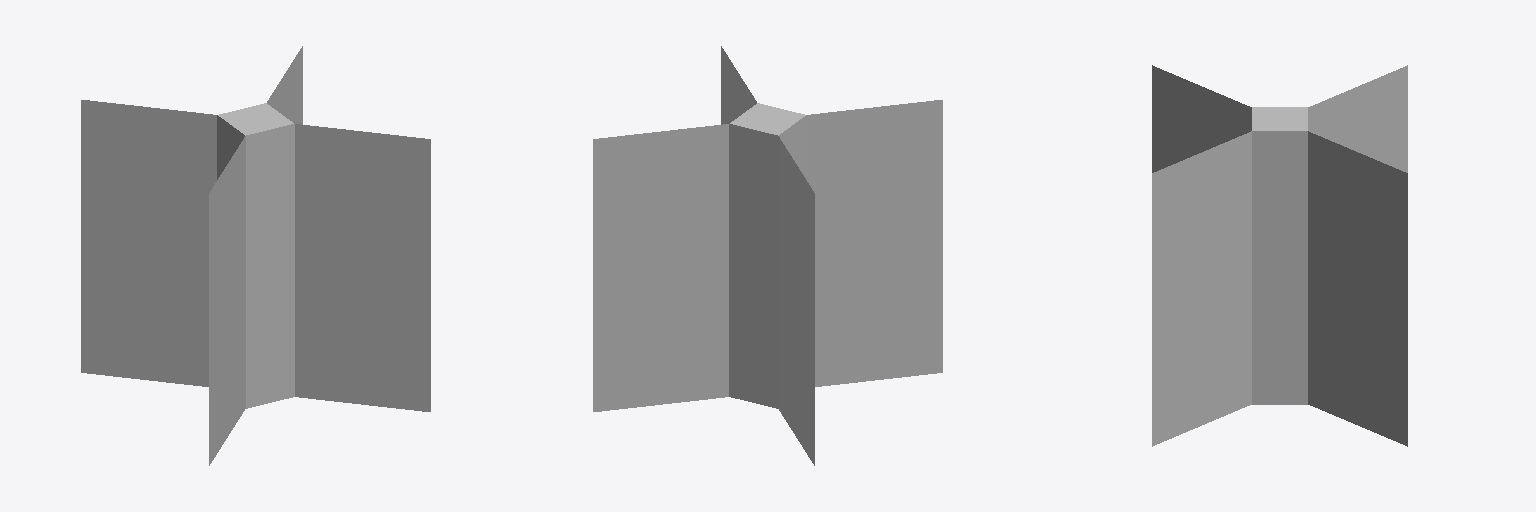
Rendered from bamboo_middle.obj.
3 views of the same model, side by side, from view 1: azimuth 30°, elevation 25°; view 2: azimuth 150°, elevation 25°; view 3: azimuth 270°, elevation 25° (orthographic).
Parts seen in each view (by area): view 1: Middle_Cube.002; view 2: Middle_Cube.002; view 3: Middle_Cube.002.
Boxes of the visible parts, box(x1,y1,x2,y2) form: Middle_Cube.002: box(81, 46, 430, 465); Middle_Cube.002: box(593, 46, 942, 465); Middle_Cube.002: box(1152, 65, 1407, 446).
Size of the model in its own units: 0.8485 by 1 by 0.8485.